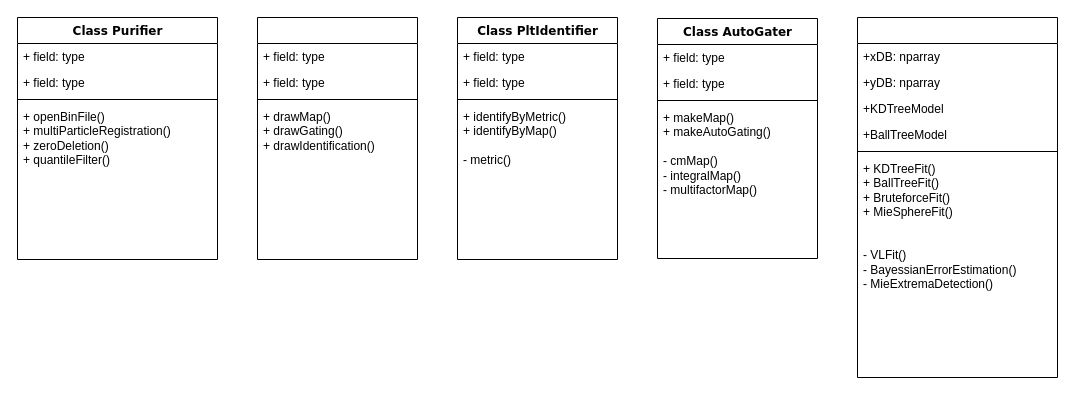
Some shapes in this 1075 by 398 pixel diagram are drawn without their labels. The shapes that lost their labels are listed below. From the top down, each one's box as (x1, y1, x2, y2) in pixels, then its label:
(256, 16, 418, 260): Class Drawer
(856, 16, 1058, 378): Class InverseSolver
